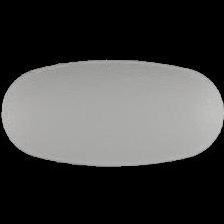0054-0166: (0, 0, 224, 224)
